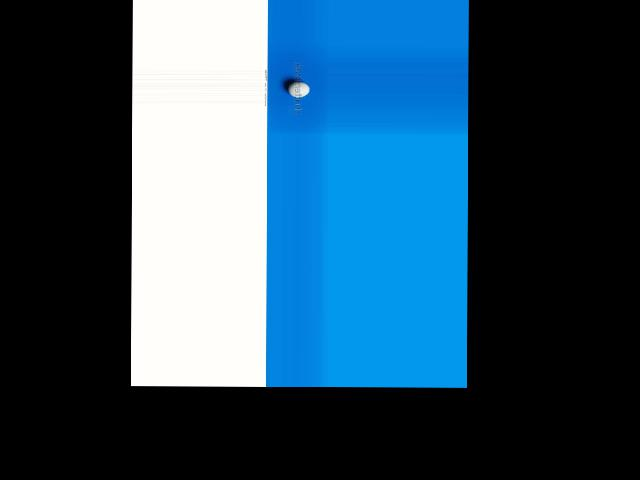egg: (287, 81, 310, 96)
